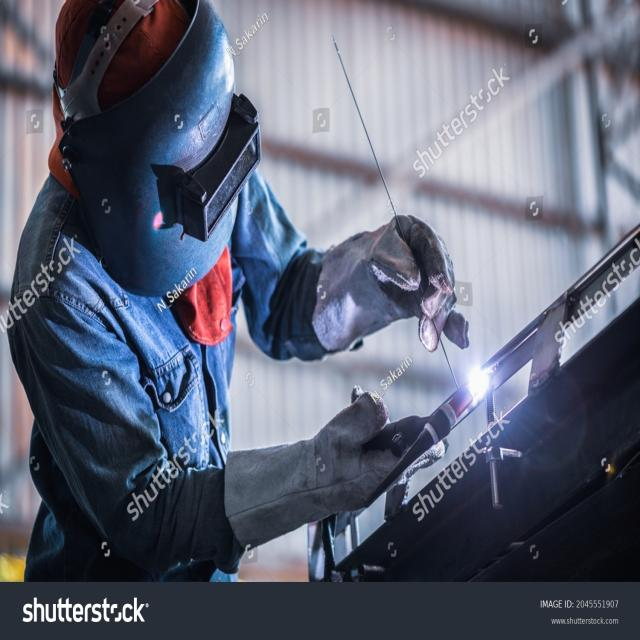welding: (463, 358, 492, 404)
